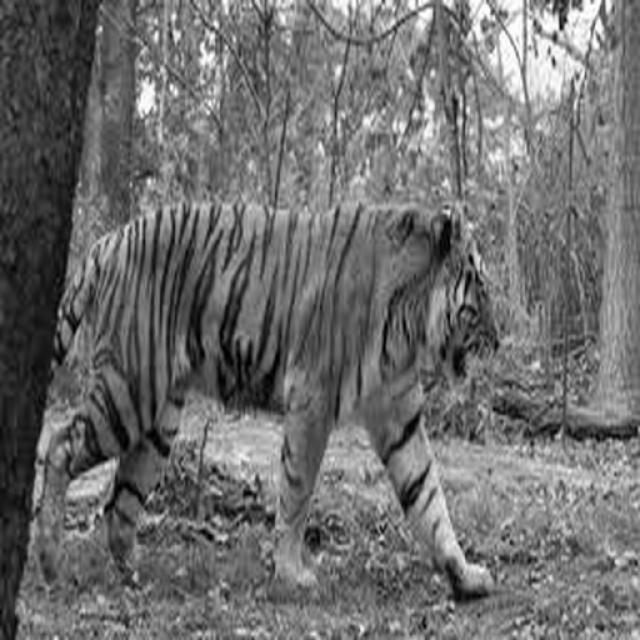Tiger: (28, 196, 502, 602)
